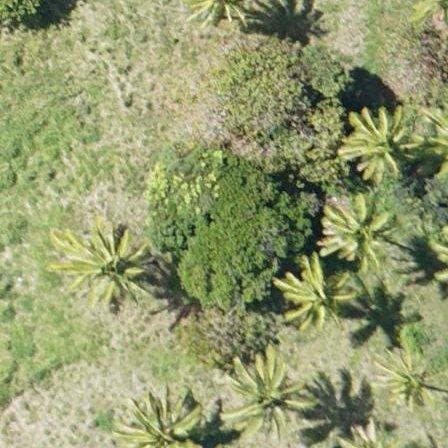palm_tree: (63, 225, 155, 310), (318, 179, 401, 269), (369, 344, 445, 425), (342, 105, 413, 181), (229, 359, 299, 433), (114, 388, 199, 448), (283, 265, 343, 330)
